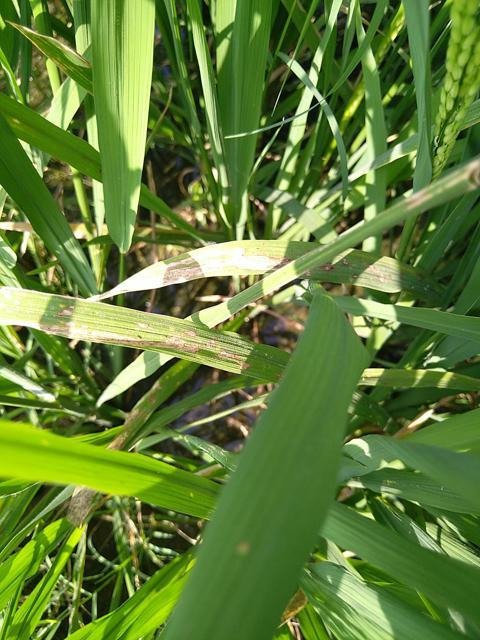Leaf Blight: (0, 297, 254, 375), (113, 247, 293, 290), (316, 251, 430, 294)
